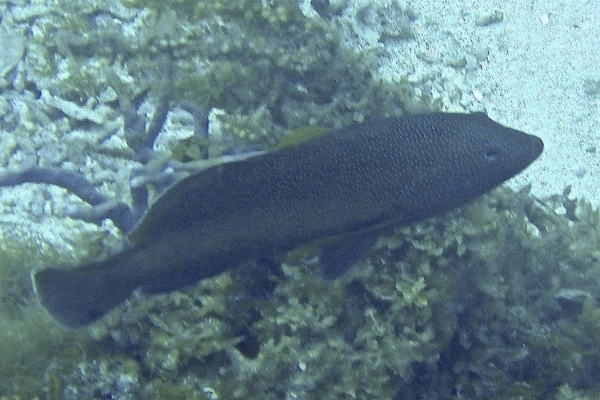Cephalopholis_fulvaw: (39, 86, 550, 331)
